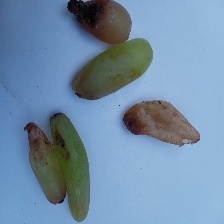grapes: (25, 28, 214, 167)
